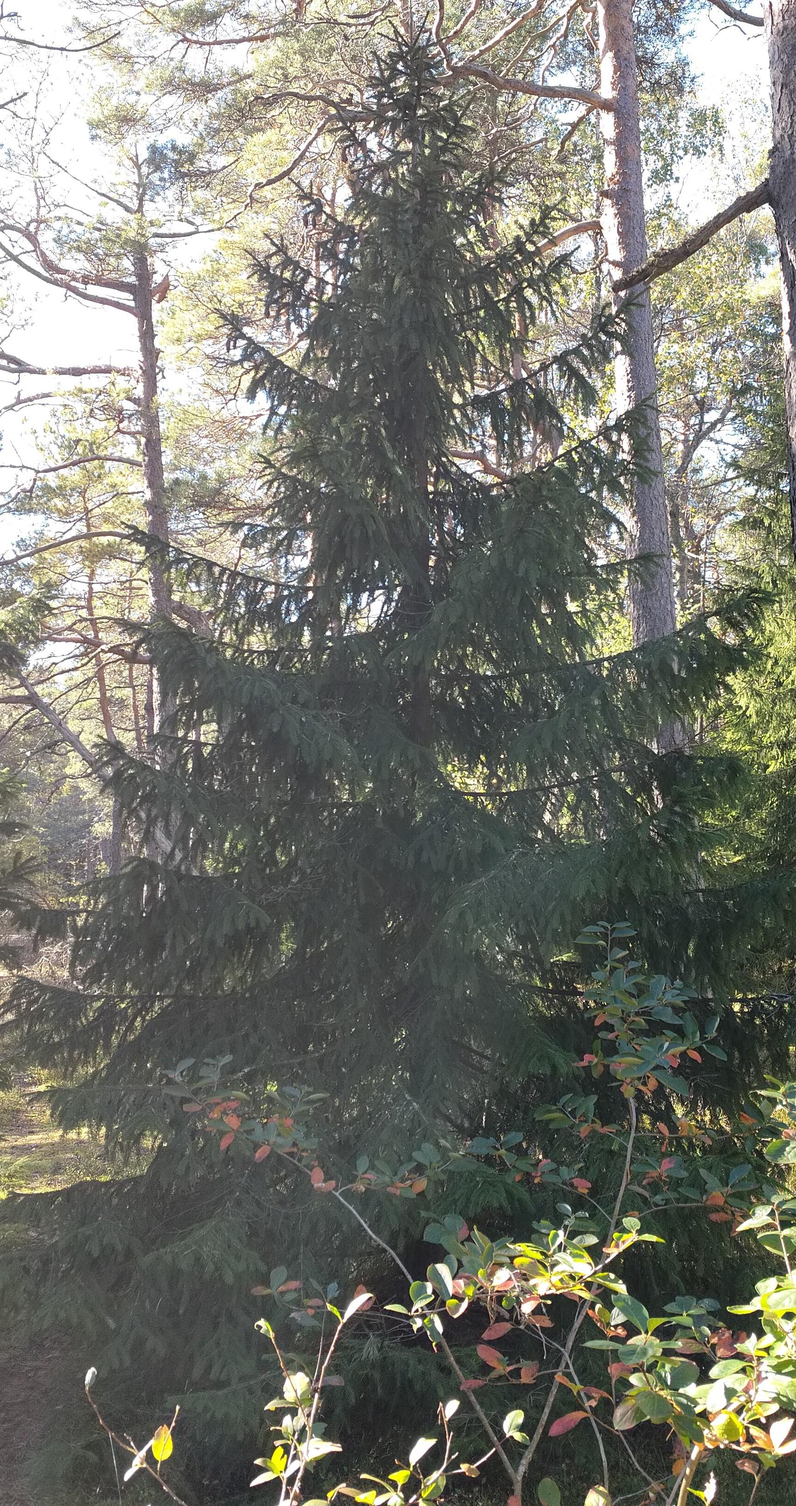Spruce: (196, 0, 598, 1262)
